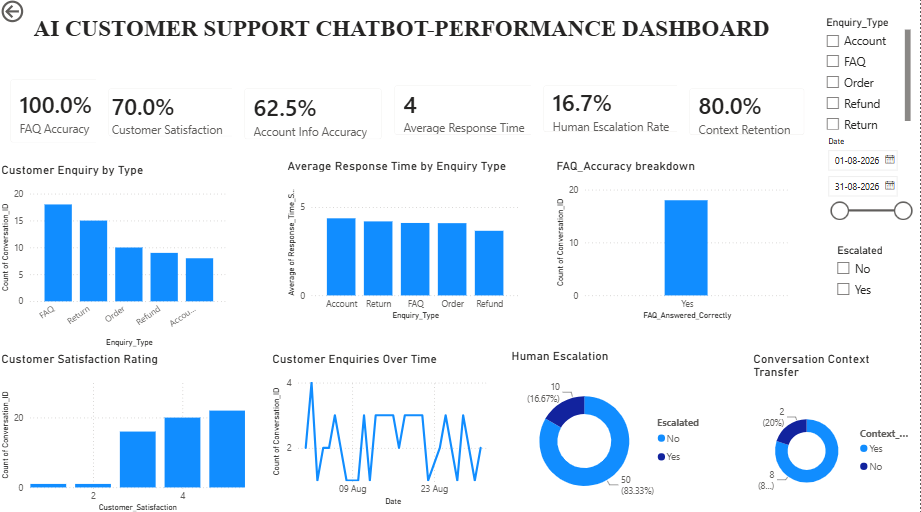

What the dashboard file says about the page in this screenshot:
{"tool":"powerbi","page":{"name":"Page 1","canvas":[1280,720],"ordinal":0},"visuals":[{"type":"cardVisual","fields":{"Data":["Sheet1.FAQ Accuracy"]},"box":[0,97.7,162.4,122.5],"z":0},{"type":"cardVisual","fields":{"Data":["Sheet1.Customer Satisfaction"]},"box":[136.3,110.1,212,101.8],"z":1000},{"type":"cardVisual","fields":{"Data":["Sheet1.Account Info Accuracy"]},"box":[324.8,110.1,225.7,106],"z":2000},{"type":"cardVisual","fields":{"Data":["Sheet1.Average Response Time"]},"box":[534,106,227.1,103.2],"z":3000},{"type":"cardVisual","fields":{"Data":["Sheet1.Human Escalation Rate"]},"box":[740.5,106,225.7,99.1],"z":4000},{"type":"cardVisual","fields":{"Data":["Sheet1.Context Retention"]},"box":[942.8,110.1,194.1,99.1],"z":5000},{"type":"clusteredColumnChart","title":"Customer Enquiry by Type","fields":{"Y":["CountNonNull(Sheet1.Conversation_ID)"],"Category":["Sheet1.Enquiry_Type"]},"box":[0,229.8,324.8,261.5],"z":6000},{"type":"clusteredColumnChart","title":" FAQ_Accuracy breakdown","fields":{"Y":["CountNonNull(Sheet1.Conversation_ID)"],"Category":["Sheet1.FAQ_Answered_Correctly"]},"box":[770.8,223,333.1,229.8],"z":7000},{"type":"clusteredColumnChart","title":"Customer Satisfaction Rating","fields":{"Y":["CountNonNull(Sheet1.Conversation_ID)"],"Category":["Sheet1.Customer_Satisfaction"]},"box":[0,491.4,348.2,228.5],"z":8000},{"type":"clusteredColumnChart","title":"Average Response Time by Enquiry Type","fields":{"Y":["Avg(Sheet1.Response_Time_Seconds)"],"Category":["Sheet1.Enquiry_Type"]},"box":[397.8,223,331.7,229.8],"z":9000},{"type":"donutChart","title":"Human Escalation","fields":{"Y":["CountNonNull(Sheet1.Conversation_ID)"],"Category":["Sheet1.Escalated"]},"box":[708.8,487.2,289,228.5],"z":10000},{"type":"donutChart","title":"Conversation Context Transfer","fields":{"Y":["CountNonNull(Sheet1.Conversation_ID)"],"Category":["Sheet1.Context_Transferred"]},"box":[1044.6,491.4,235.4,228.5],"z":11000},{"type":"lineChart","title":"Customer Enquiries Over Time","fields":{"Category":["Sheet1.Date"],"Y":["CountNonNull(Sheet1.Conversation_ID)"]},"box":[375.7,491.4,317.9,218.8],"z":12000},{"type":"slicer","fields":{"Values":["Sheet1.Enquiry_Type"]},"box":[1136.9,22,134.9,166.5],"z":13000},{"type":"actionButton","box":[0,0,100,40],"z":14000},{"type":"slicer","fields":{"Values":["Sheet1.Escalated"]},"box":[1153.4,338.6,118.2,93],"z":15000},{"type":"slicer","fields":{"Values":["Sheet1.Date"]},"box":[1139.6,188.6,137.6,126.6],"z":16000},{"type":"textbox","box":[44,20.6,1059.8,50.9],"z":17000}]}

Visuals, with their boxes in screenshot pixels (x1, y1, x2, y2), scaled from the page's 1280x720 canvas onto the 921x512 screenshot:
cardVisual - Sheet1.FAQ Accuracy: x1=0, y1=69, x2=117, y2=157
cardVisual - Sheet1.Customer Satisfaction: x1=98, y1=78, x2=251, y2=151
cardVisual - Sheet1.Account Info Accuracy: x1=234, y1=78, x2=396, y2=154
cardVisual - Sheet1.Average Response Time: x1=384, y1=75, x2=548, y2=149
cardVisual - Sheet1.Human Escalation Rate: x1=533, y1=75, x2=695, y2=146
cardVisual - Sheet1.Context Retention: x1=678, y1=78, x2=818, y2=149
"Customer Enquiry by Type" clusteredColumnChart: x1=0, y1=163, x2=234, y2=349
" FAQ_Accuracy breakdown" clusteredColumnChart: x1=555, y1=159, x2=794, y2=322
"Customer Satisfaction Rating" clusteredColumnChart: x1=0, y1=349, x2=251, y2=511
"Average Response Time by Enquiry Type" clusteredColumnChart: x1=286, y1=159, x2=525, y2=322
"Human Escalation" donutChart: x1=510, y1=346, x2=718, y2=509
"Conversation Context Transfer" donutChart: x1=752, y1=349, x2=920, y2=511
"Customer Enquiries Over Time" lineChart: x1=270, y1=349, x2=499, y2=505
slicer - Sheet1.Enquiry_Type: x1=818, y1=16, x2=915, y2=134
actionButton: x1=0, y1=0, x2=72, y2=28
slicer - Sheet1.Escalated: x1=830, y1=241, x2=915, y2=307
slicer - Sheet1.Date: x1=820, y1=134, x2=919, y2=224
textbox: x1=32, y1=15, x2=794, y2=51
